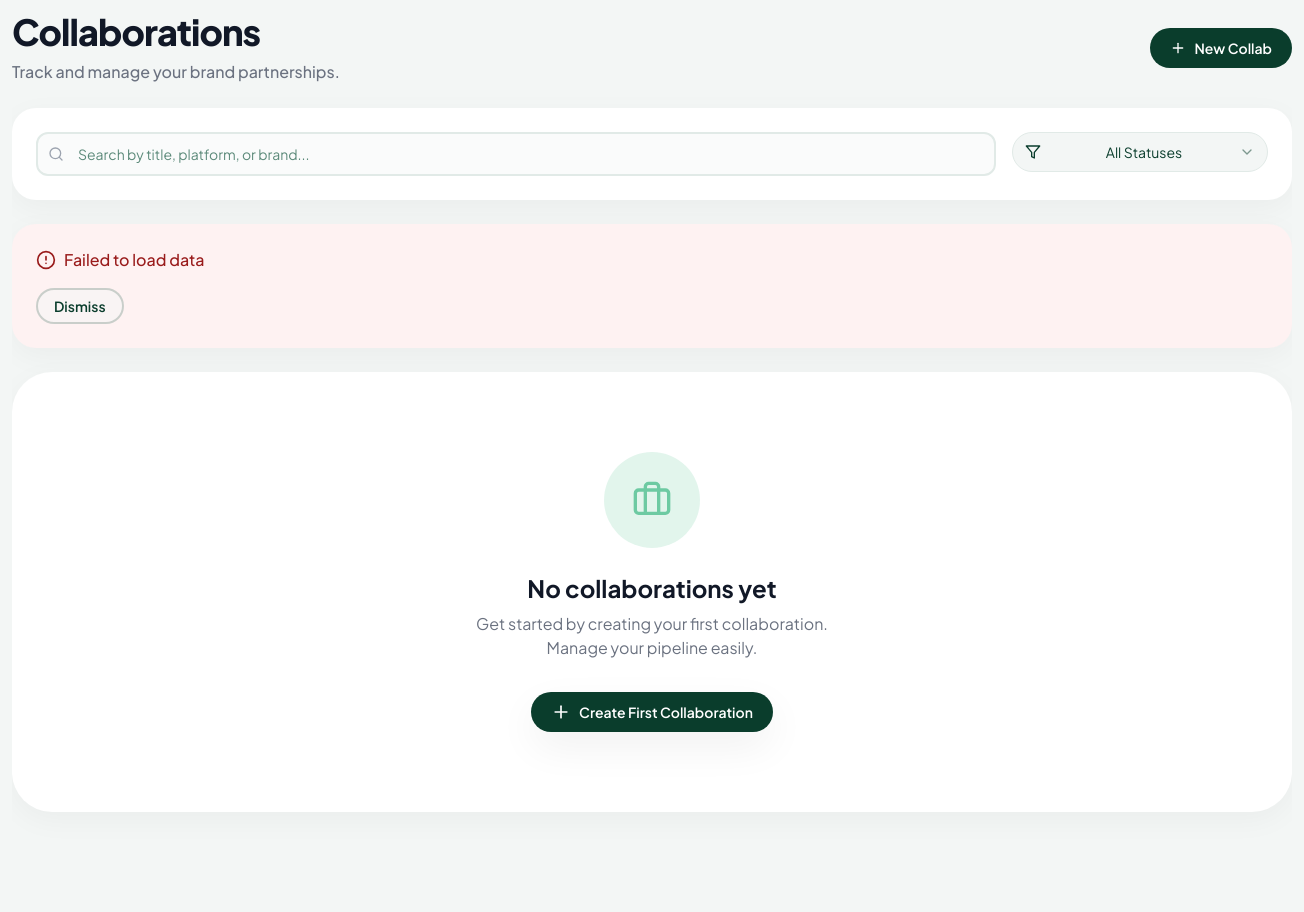
it: CollaborationsPage › Collaboration Listing › should display error message on fetch failure and allow dismissing it
Expected: the text "Failed to load data" is shown, x1=64 y1=248 x2=204 y2=272
Click the button "Dismiss" at (80, 306), box x1=36 y1=288 x2=124 y2=324
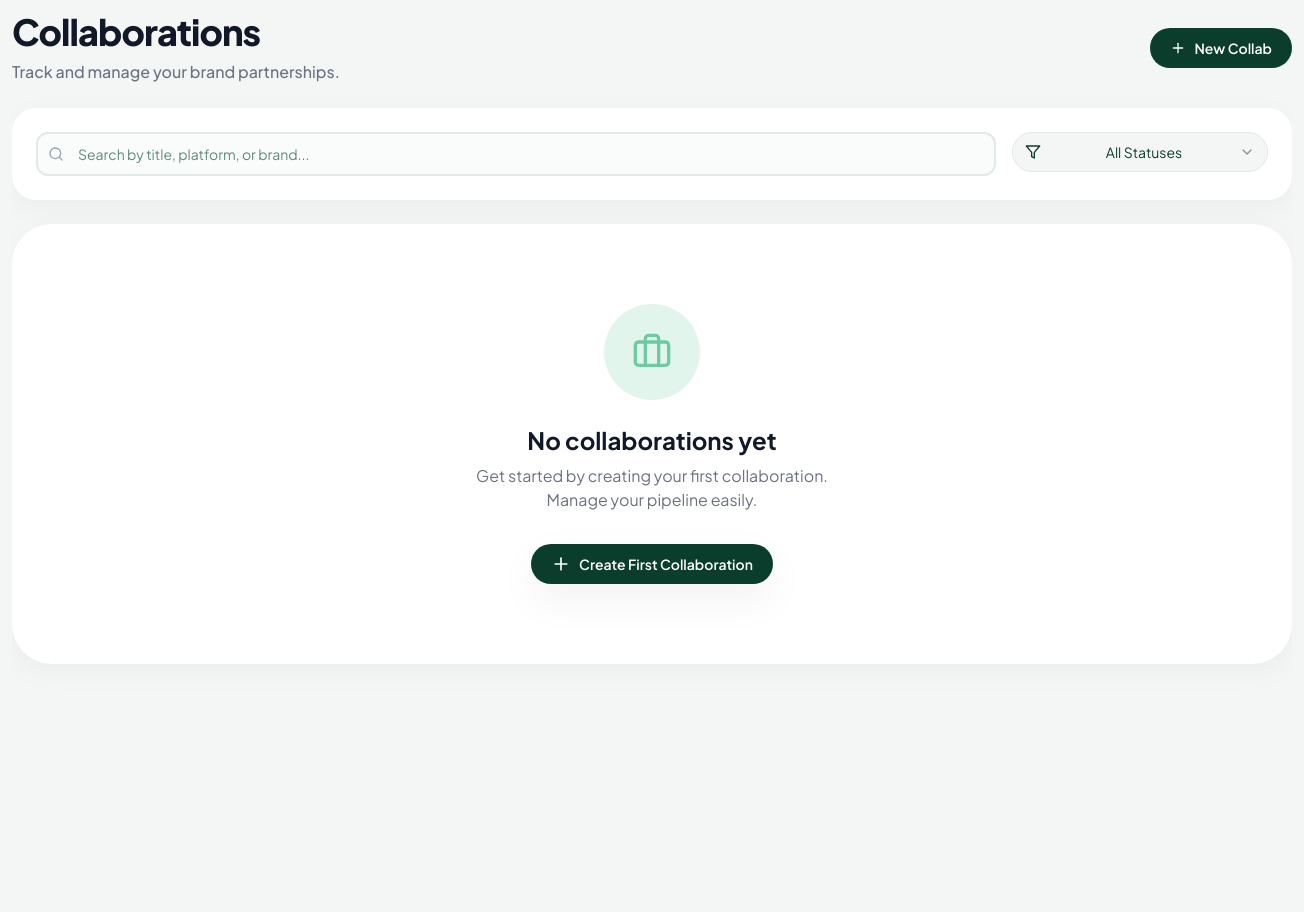
Result: the text "Failed to load data" is gone
